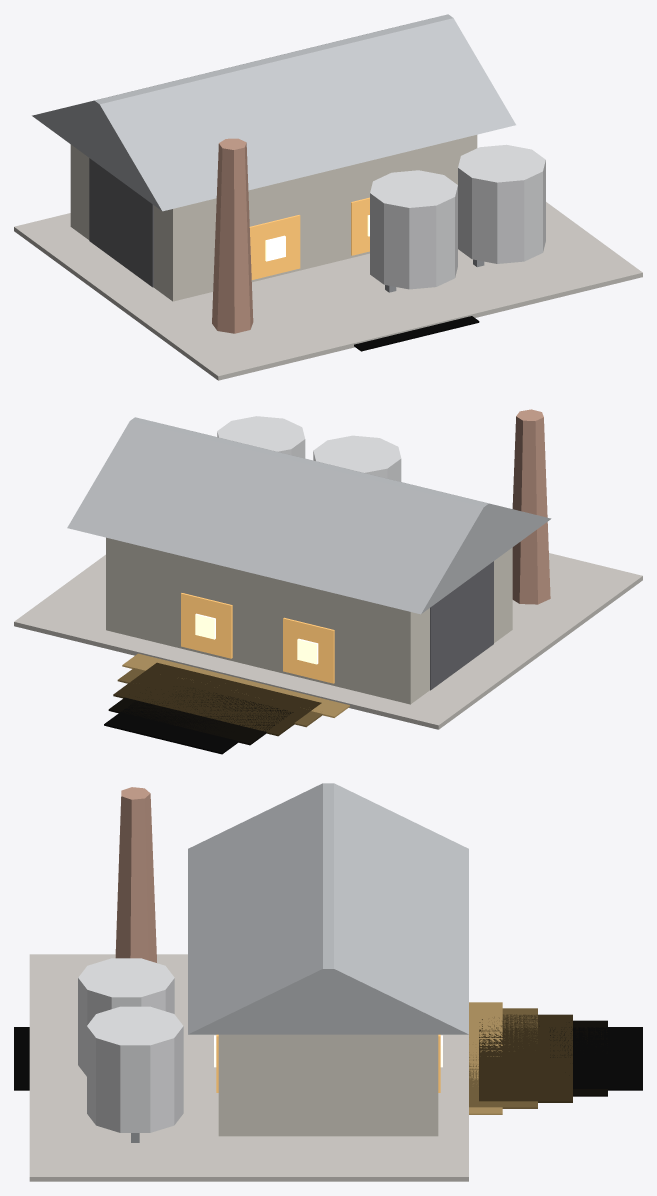
The model's file is plc_creamery.glb.
3 views of the same model, one above another, from view 1: azimuth 30°, elevation 25°; view 2: azimuth 150°, elevation 25°; view 3: azimuth 270°, elevation 25° (orthographic). The views are drawn at different scales.
Parts seen in each view (by area): view 1: plc_creamery; view 2: plc_creamery; view 3: plc_creamery.
Boxes of the visible parts, box(x1,y1,x2,y2) form: plc_creamery: box(14, 14, 642, 380); plc_creamery: box(14, 409, 642, 754); plc_creamery: box(14, 783, 642, 1181).
Bounding box in the file's own units: 2.04 × 0.85 × 2.43.
